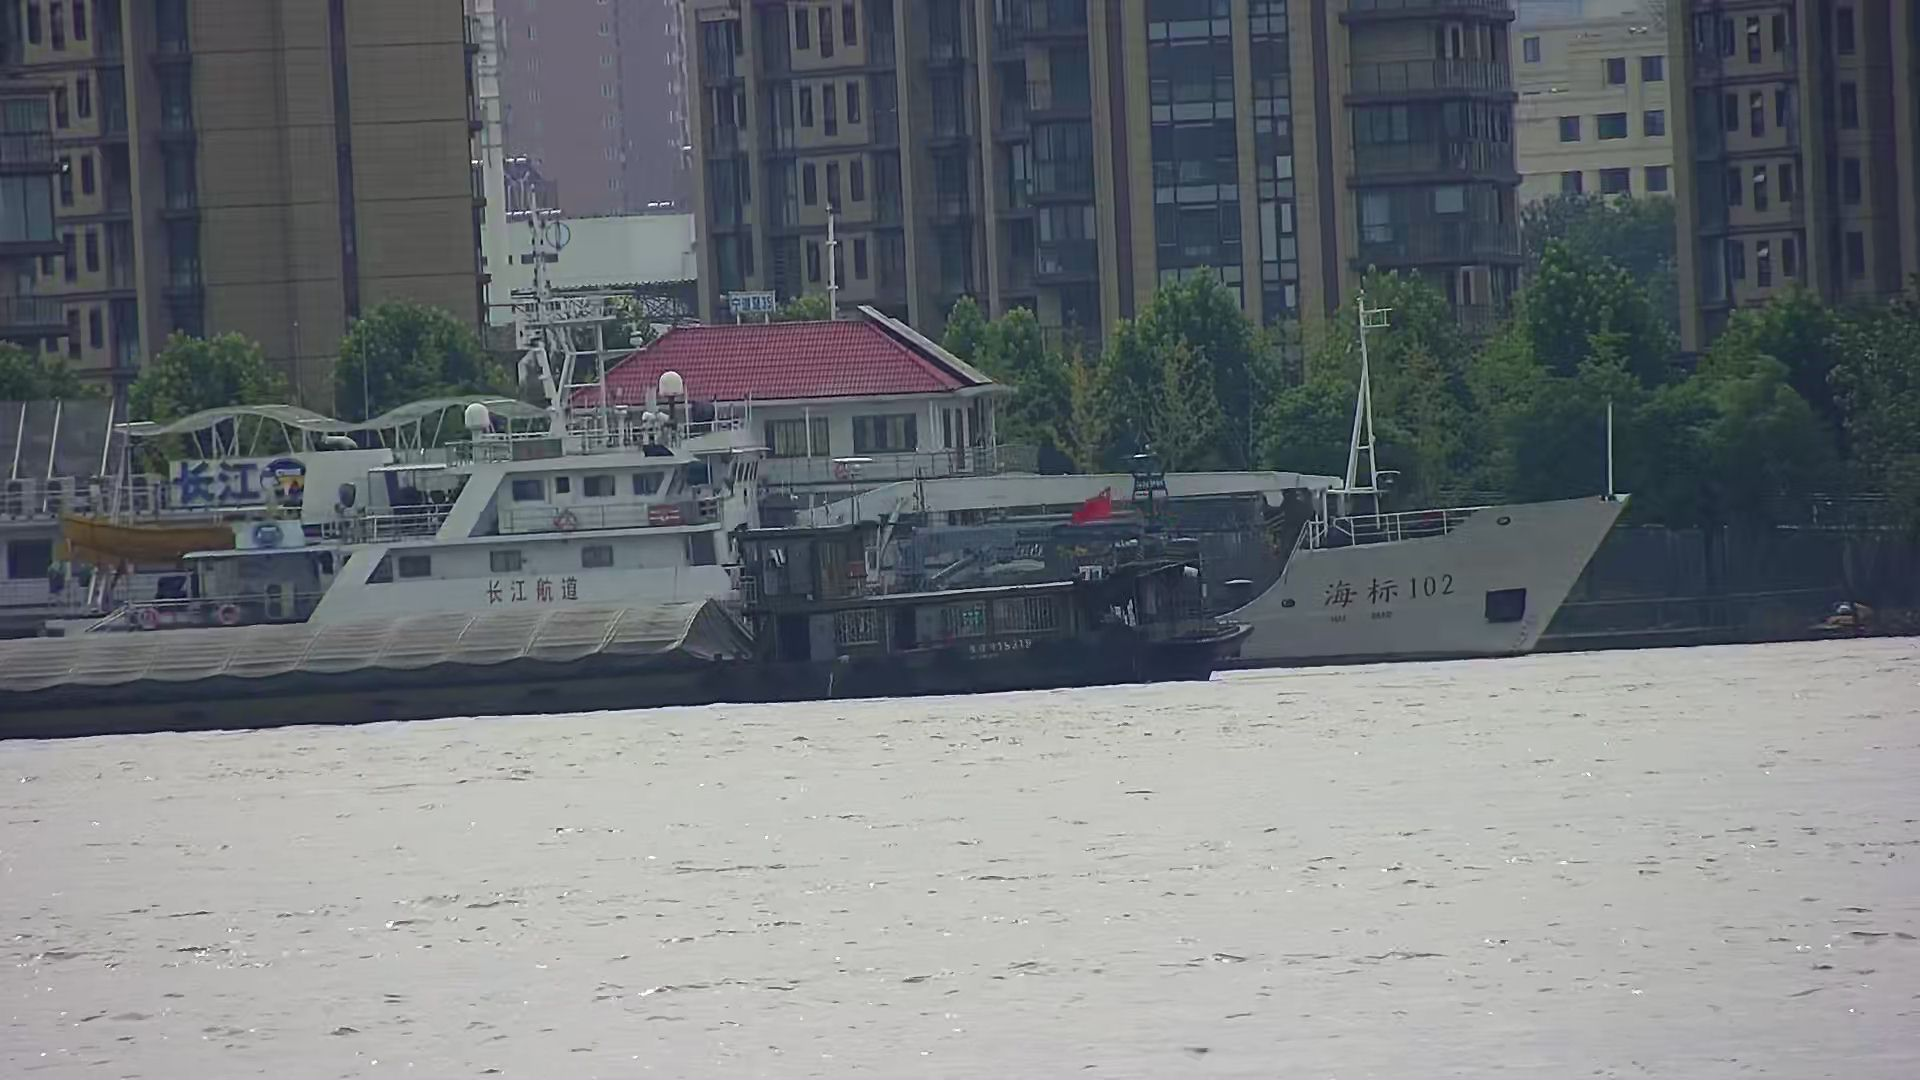ship: (1, 208, 1633, 686), (1, 185, 750, 617), (1, 487, 1255, 740)
